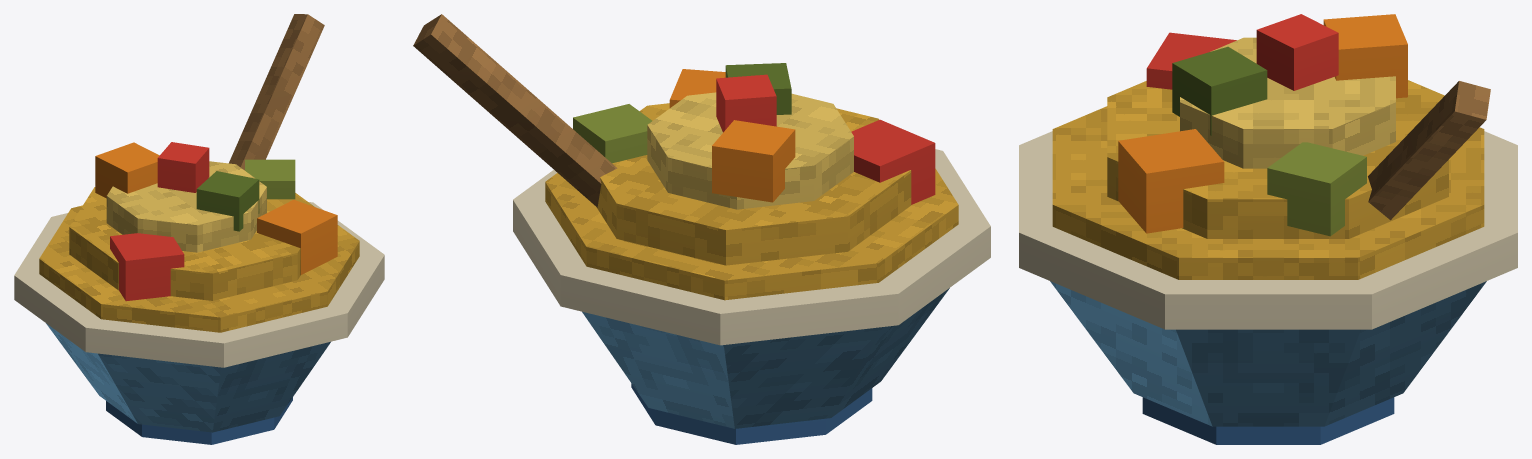
File: item_food_bowl.glb
The picture shows the model from 3 angles, left to right: view 1: azimuth 30°, elevation 25°; view 2: azimuth 150°, elevation 25°; view 3: azimuth 270°, elevation 25°; orthographic projection. The views are drawn at different scales.
Parts seen in each view (by area): view 1: item_food_bowl; view 2: item_food_bowl; view 3: item_food_bowl.
Part boxes in pixels (x1,y1,x2,y2): item_food_bowl: (14,14,384,444); item_food_bowl: (413,14,990,444); item_food_bowl: (1019,14,1517,444).
Size of the model in its own units: 1.16 by 0.9843 by 1.03.
10 materials, 4 textured.
